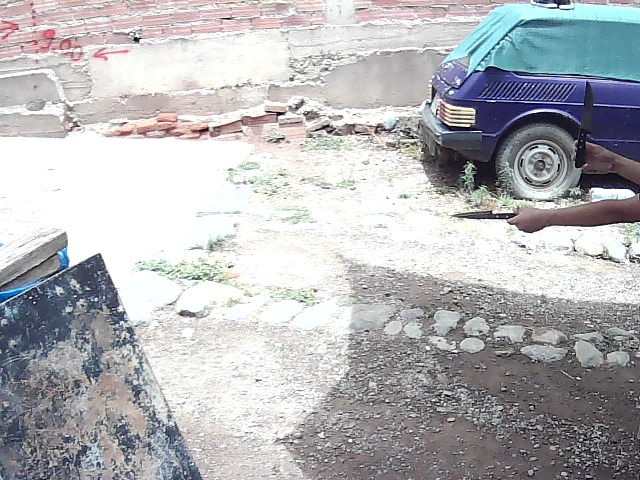cuchillo: (574, 74, 599, 148), (446, 203, 510, 225)
